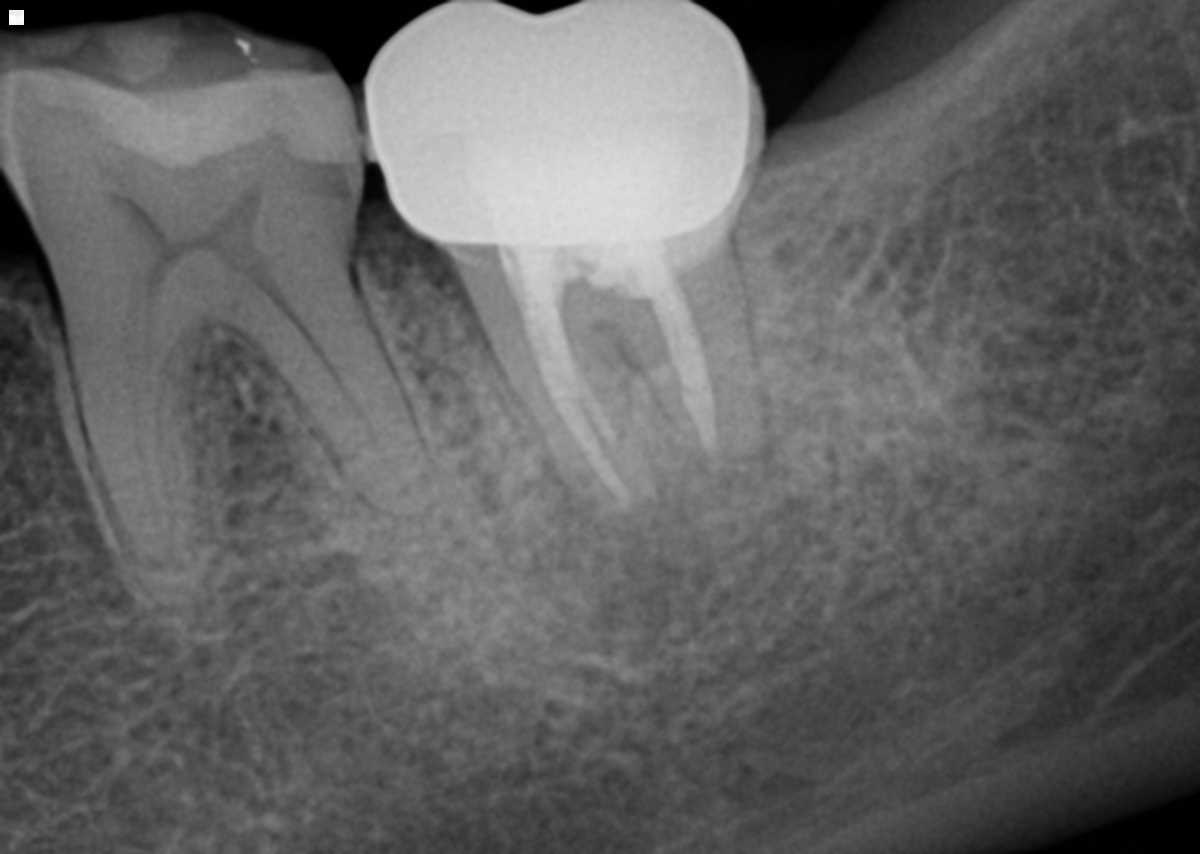Apical Lesion: (559, 469, 774, 643)
Distal Canal: (265, 282, 414, 497)
Distal Root: (233, 254, 440, 516), (615, 242, 770, 467)
Mesial Canal: (124, 298, 163, 542)
Mesial Root: (45, 274, 215, 578), (477, 287, 658, 518)
Root Canal Filling: (516, 265, 634, 508), (642, 249, 719, 458)
